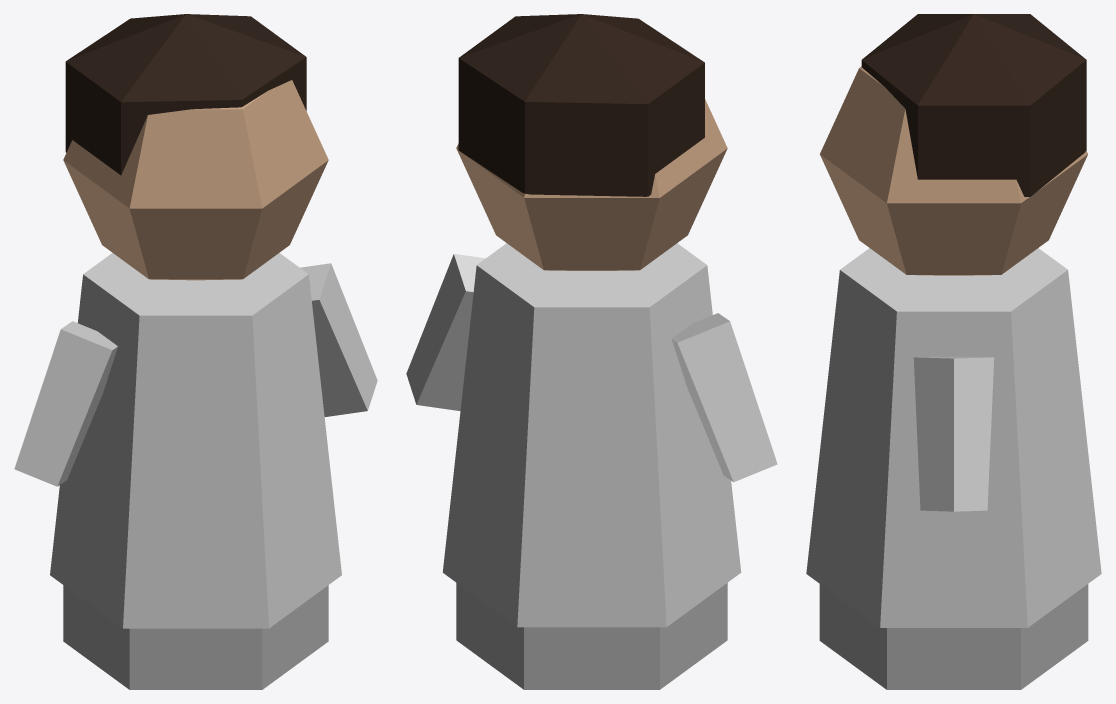
Rendered from crowd.glb.
3 renders of one model, left to right at view 1: azimuth 30°, elevation 25°; view 2: azimuth 150°, elevation 25°; view 3: azimuth 270°, elevation 25°, orthographic. The views are drawn at different scales.
Parts seen in each view (by area): view 1: CrowdBody, CrowdHead; view 2: CrowdBody, CrowdHead; view 3: CrowdBody, CrowdHead.
Boxes of the visible parts, box(x1,y1,x2,y2) form: CrowdBody: box(14, 253, 377, 689); CrowdHead: box(63, 14, 328, 280); CrowdBody: box(406, 243, 777, 689); CrowdHead: box(456, 14, 727, 270); CrowdBody: box(806, 248, 1101, 689); CrowdHead: box(820, 14, 1087, 275).
Size of the model in its own units: 0.6319 by 1.03 by 0.44.
